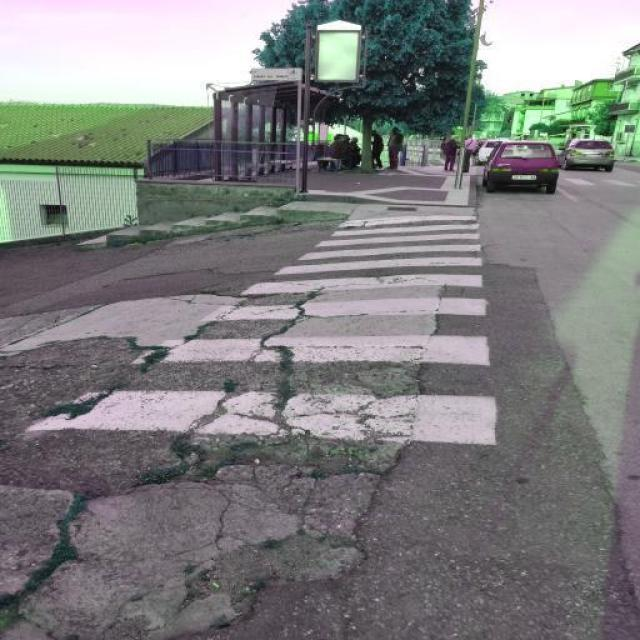crosswalk: (24, 219, 498, 446)
